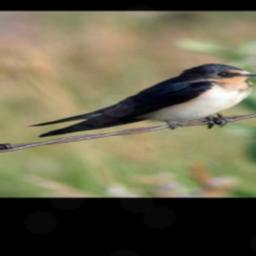Swallow: (27, 61, 256, 141)
